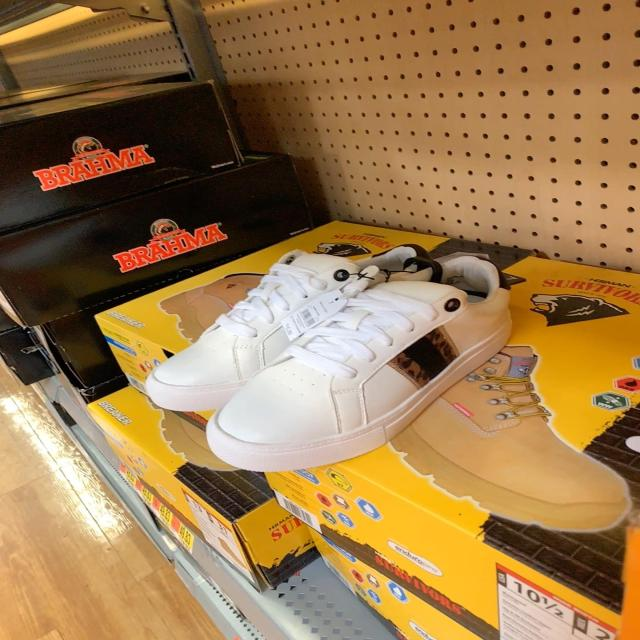shoe: (205, 253, 524, 473), (144, 242, 425, 411)
